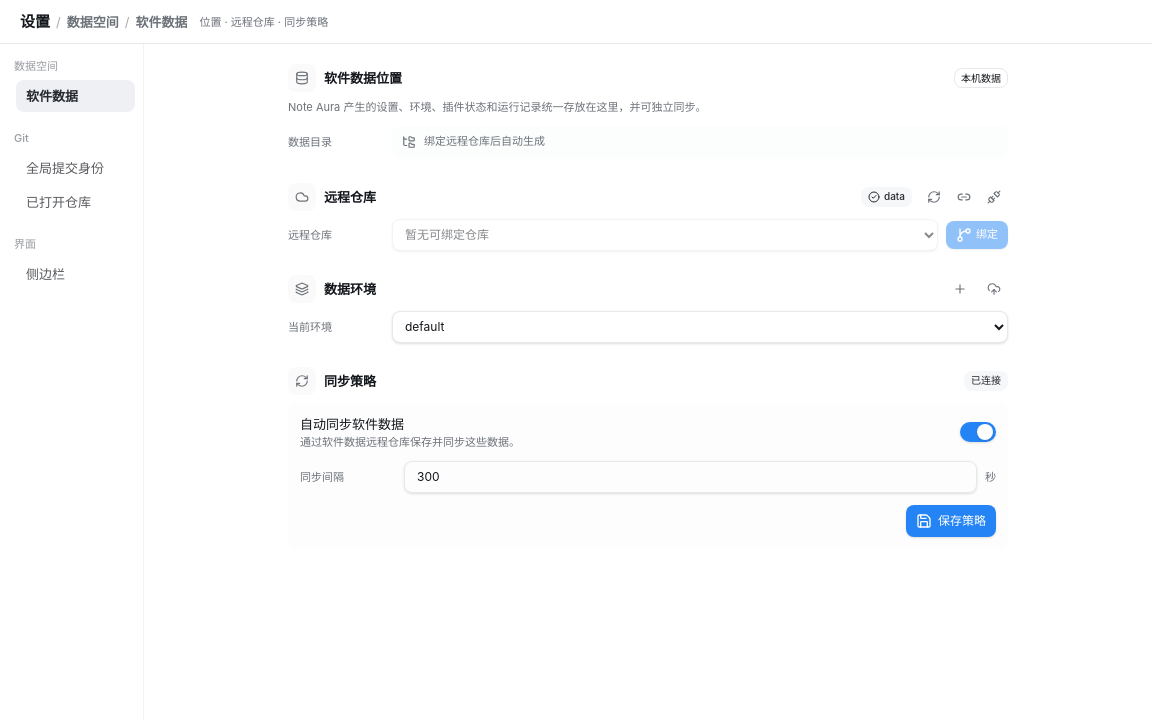
Scenario: SettingsPanel › creates and activates a new software data environment
Click the button named "新建环境" at [960, 288], box [946,274,974,302]
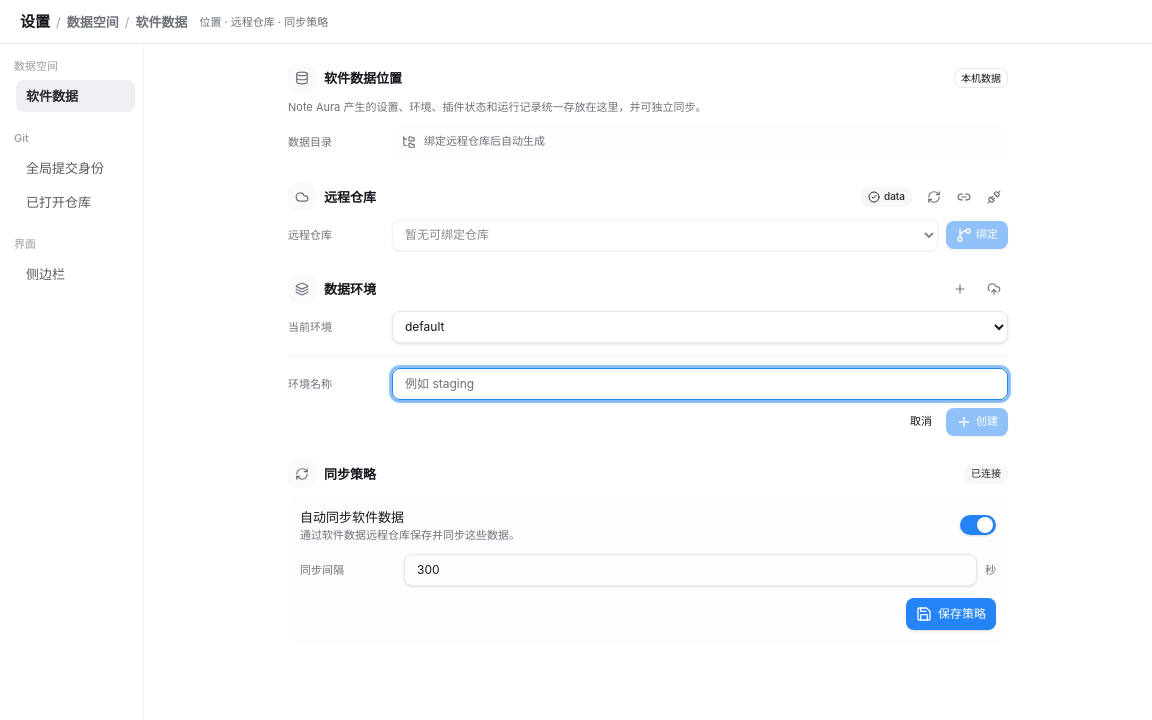
Type "staging" into the field labelled "环境名称" at [700, 384], box [392,368,1008,400]
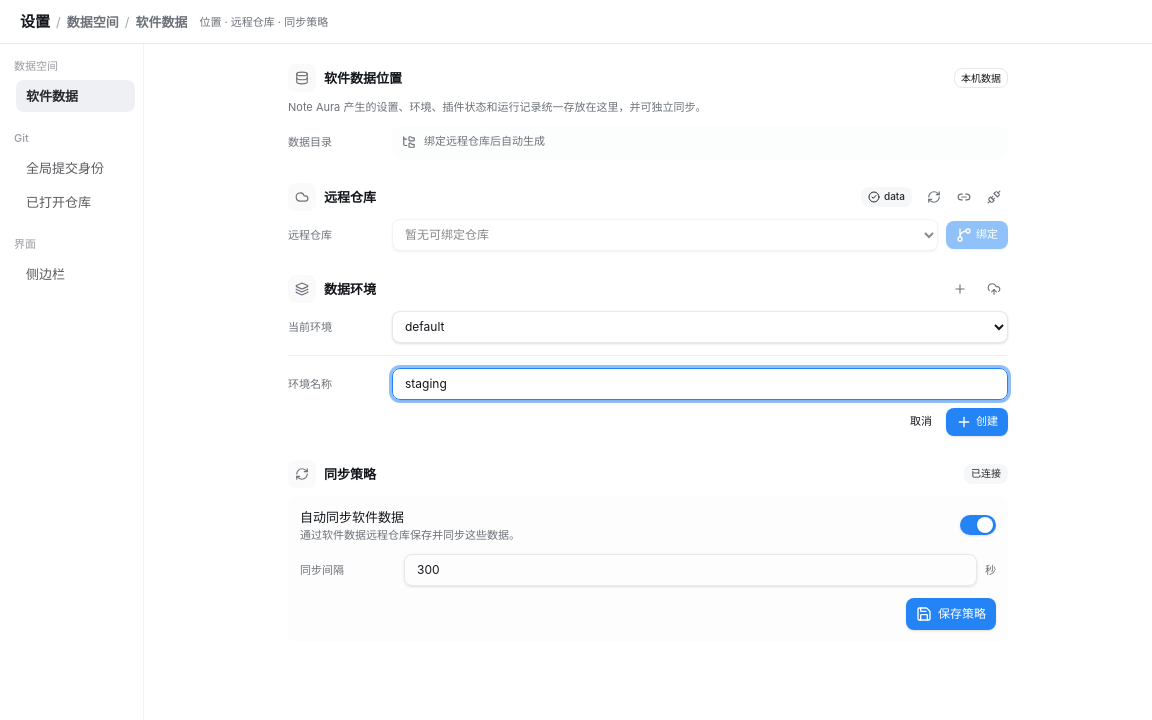
Click the button "创建" at [977, 422], box [946,408,1008,436]
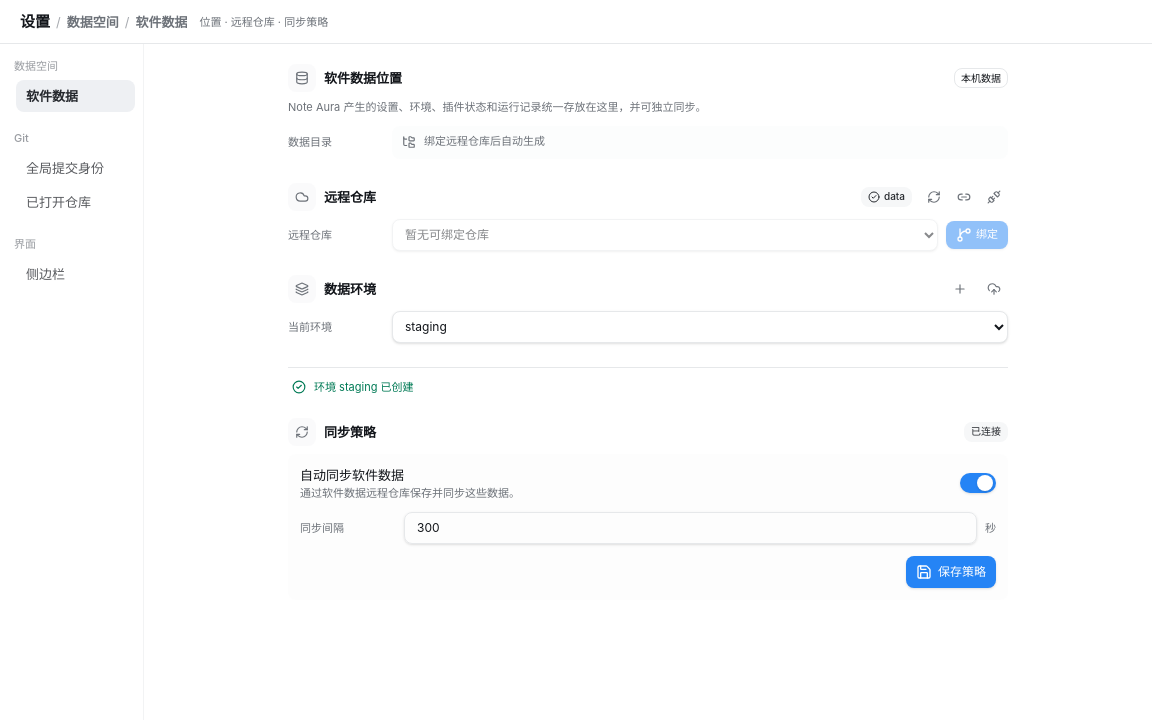
Expected: the dropdown labelled "当前环境" shows "staging", [392,310,1008,342]
